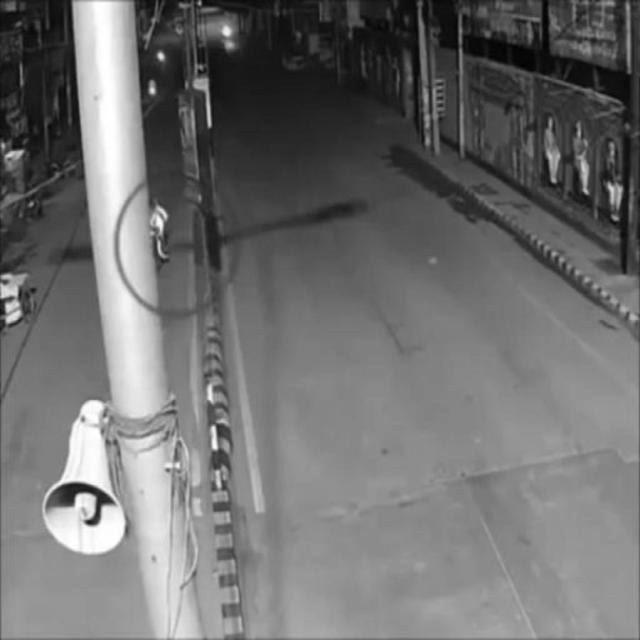vehicle: (146, 191, 176, 273)
